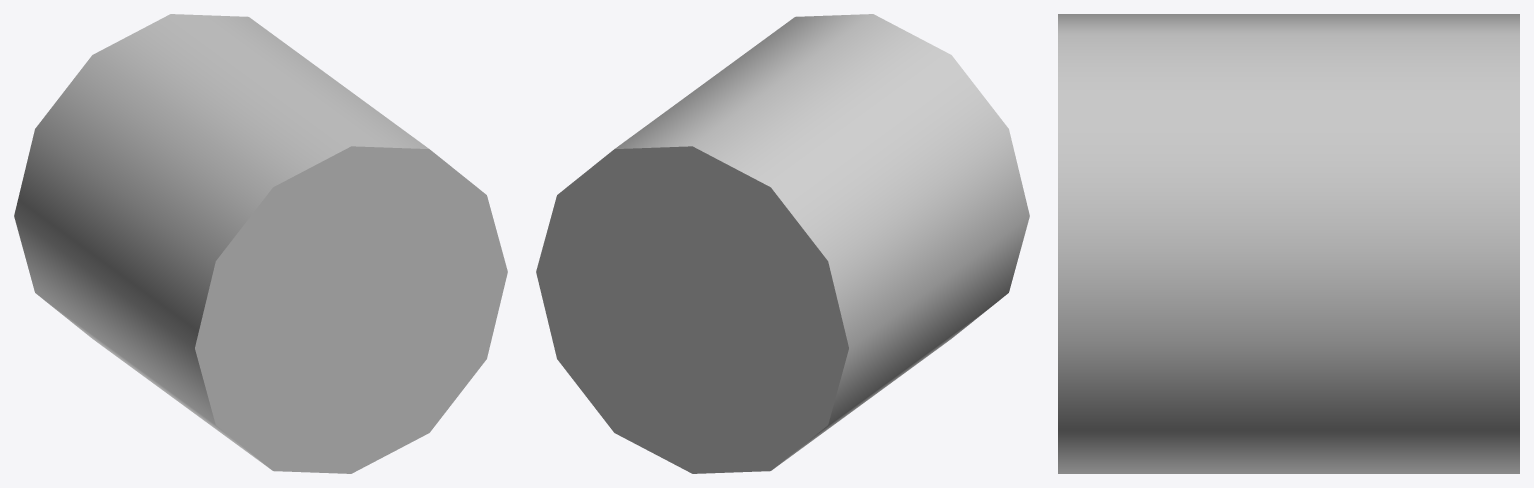
Rendered from PipeStraight.fbx.
3 renders of one model, left to right at view 1: azimuth 30°, elevation 25°; view 2: azimuth 150°, elevation 25°; view 3: azimuth 270°, elevation 25°, orthographic. The views are drawn at different scales.
Visible parts, largest first — view 1: PipeStraight; view 2: PipeStraight; view 3: PipeStraight.
Part boxes in pixels (x1,y1,x2,y2): PipeStraight: (14, 14, 507, 473); PipeStraight: (536, 14, 1029, 473); PipeStraight: (1058, 14, 1519, 473).
Size of the model in its own units: 1 by 1 by 1.
